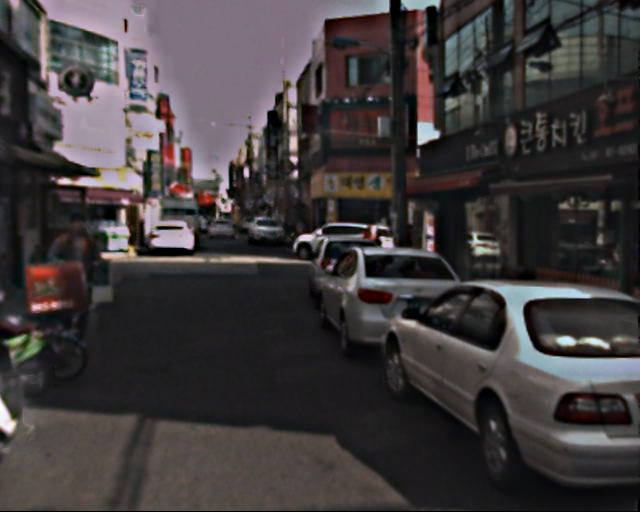person: (48, 213, 111, 343), (357, 220, 380, 277)
